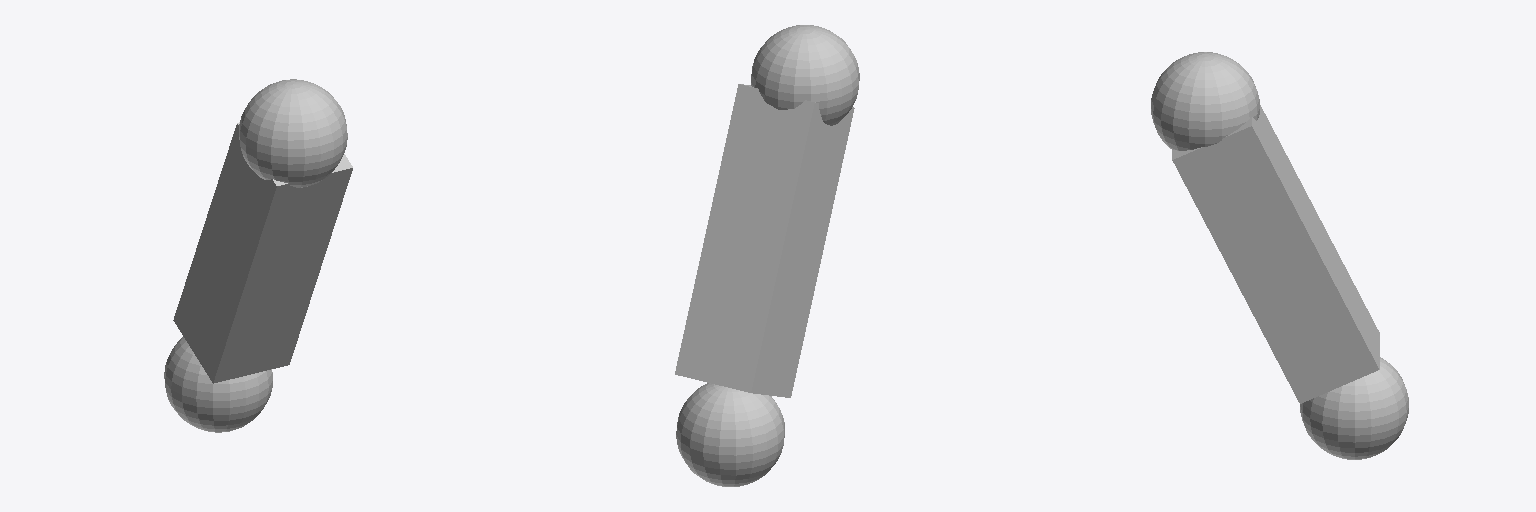
Rendered from righthand.obj.
3 renders of one model, left to right at view 1: azimuth 30°, elevation 25°; view 2: azimuth 150°, elevation 25°; view 3: azimuth 270°, elevation 25°, orthographic.
Visible parts, largest first — view 1: pCube12, pSphere8, pSphere9; view 2: pCube12, pSphere9, pSphere8; view 3: pCube12, pSphere8, pSphere9.
Boxes of the visible parts, x1=… form: pCube12: x1=173, y1=122, x2=352, y2=383; pSphere8: x1=239, y1=79, x2=347, y2=187; pSphere9: x1=164, y1=337, x2=272, y2=432; pCube12: x1=675, y1=84, x2=854, y2=397; pSphere9: x1=676, y1=383, x2=784, y2=486; pSphere8: x1=751, y1=25, x2=859, y2=125; pCube12: x1=1172, y1=105, x2=1379, y2=403; pSphere8: x1=1151, y1=52, x2=1259, y2=150; pSphere9: x1=1300, y1=357, x2=1408, y2=459.
Size of the model in its own units: 0.9467 by 3.79 by 2.23.